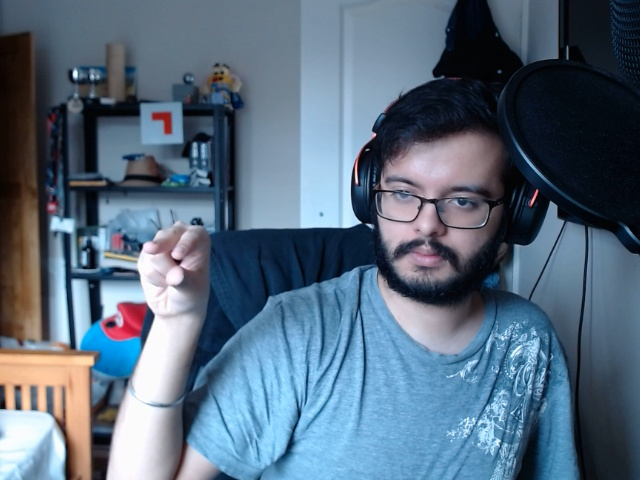No: (129, 205, 221, 344)
